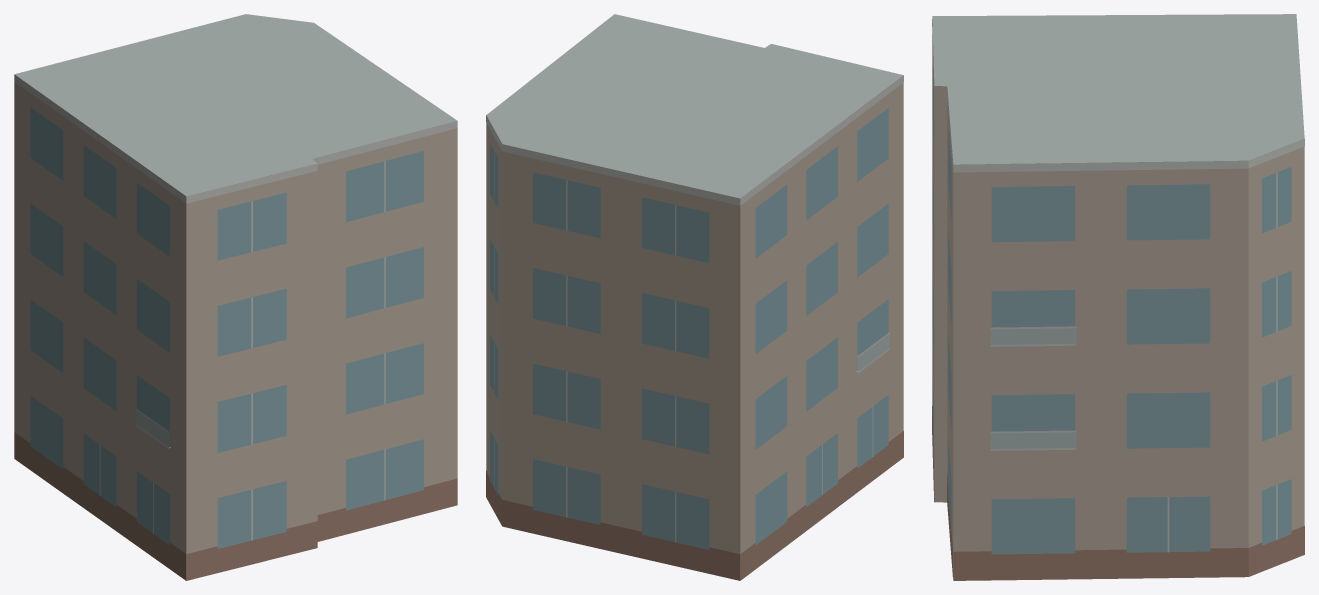
Rendered from survey-upis-32970713.glb.
The picture shows the model from 3 angles, left to right: view 1: azimuth 30°, elevation 25°; view 2: azimuth 150°, elevation 25°; view 3: azimuth 270°, elevation 25°; orthographic projection. The views are drawn at different scales.
Visible parts, largest first — view 1: survey-upis-32970713.tmp; view 2: survey-upis-32970713.tmp; view 3: survey-upis-32970713.tmp.
Boxes of the visible parts, <box> form: survey-upis-32970713.tmp: <box>14,14,457,580</box>; survey-upis-32970713.tmp: <box>486,14,903,580</box>; survey-upis-32970713.tmp: <box>932,14,1304,580</box>.
Size of the model in its own units: 9.94 by 12.8 by 10.39.
